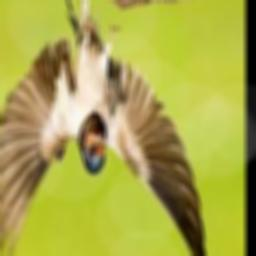Swallow: (0, 0, 208, 256)
